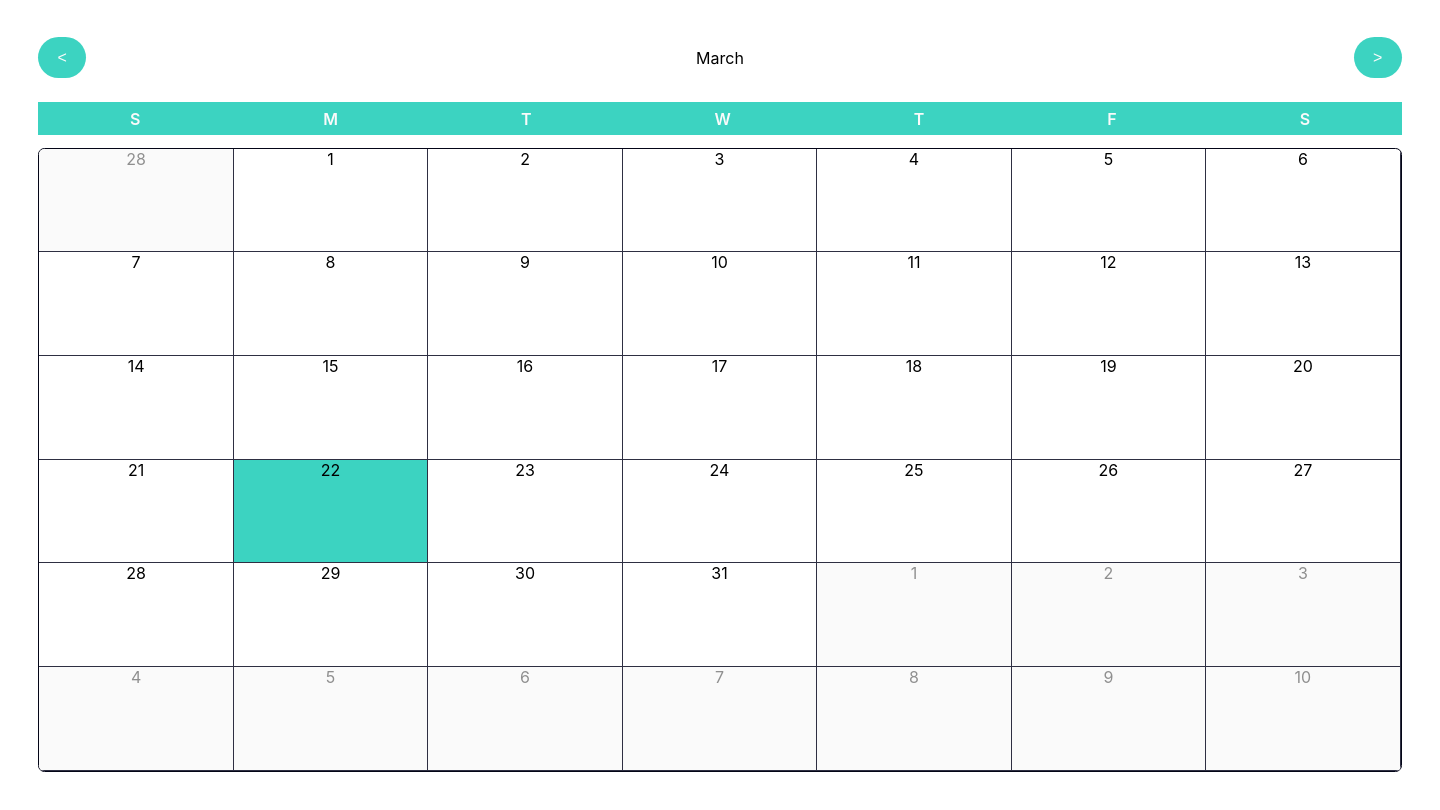
Test: submitting reminder modal with reminder text creates new reminder in calendar
This screenshot has width=1440, height=810.
Click the element with test id "today-cell" at (331, 512), box [234,460,428,563]
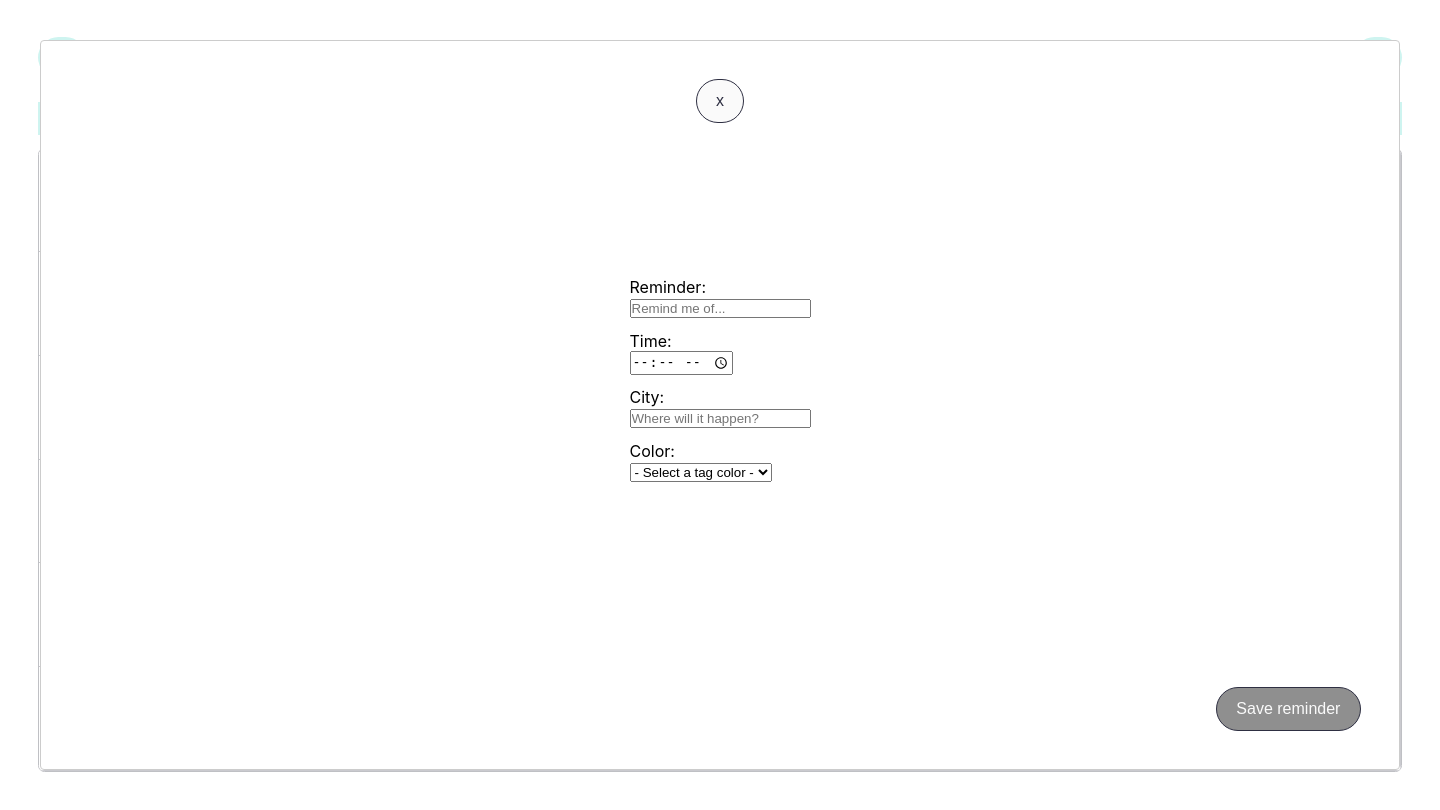
Result: the button "Save reminder" is shown at [1216,687,1361,731]
Type "write tests" into the field with placeholder "Remind me of..." at (720, 308), box [630,299,810,318]
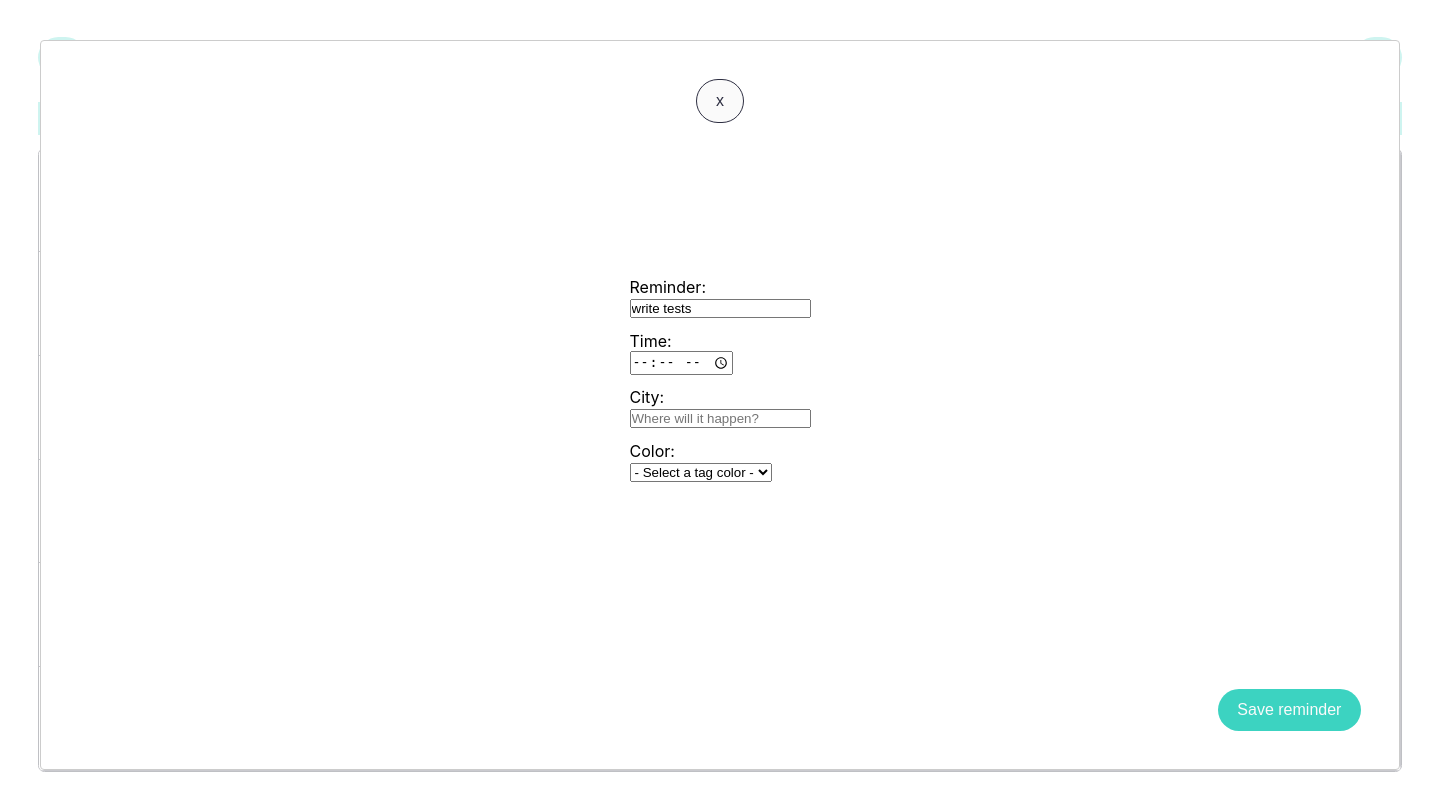
Click the button "Save reminder" at (1289, 710), box [1218,689,1361,731]
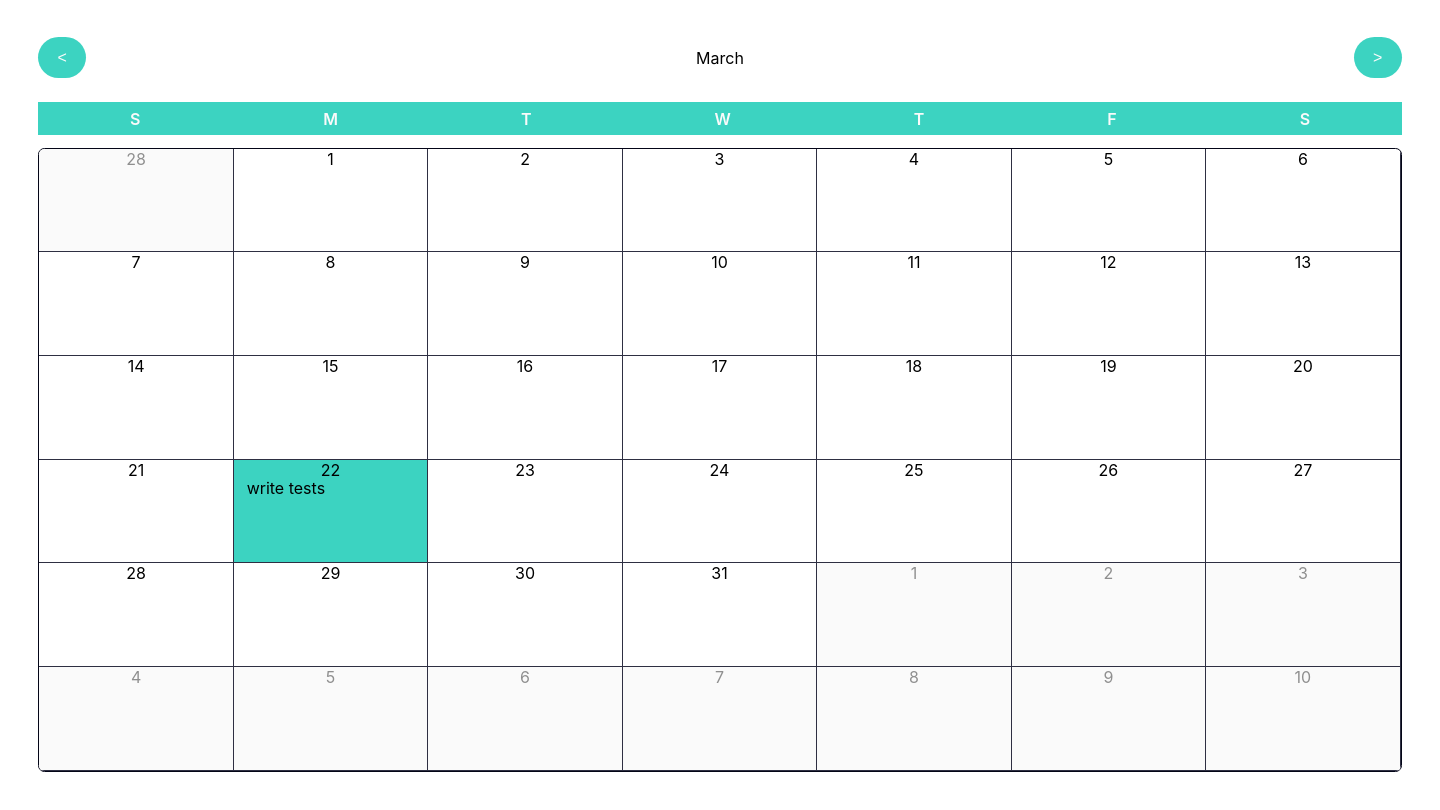
Result: the text "write tests" is shown at [247,480,325,498]
